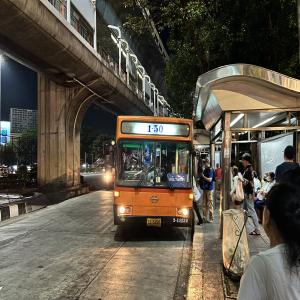BMTA-bus: (113, 116, 200, 241), (100, 141, 116, 191)
Bus Line Number: (145, 123, 165, 134)
Bus Side Number: (172, 217, 188, 225)
Destination Sign: (167, 173, 187, 188)
